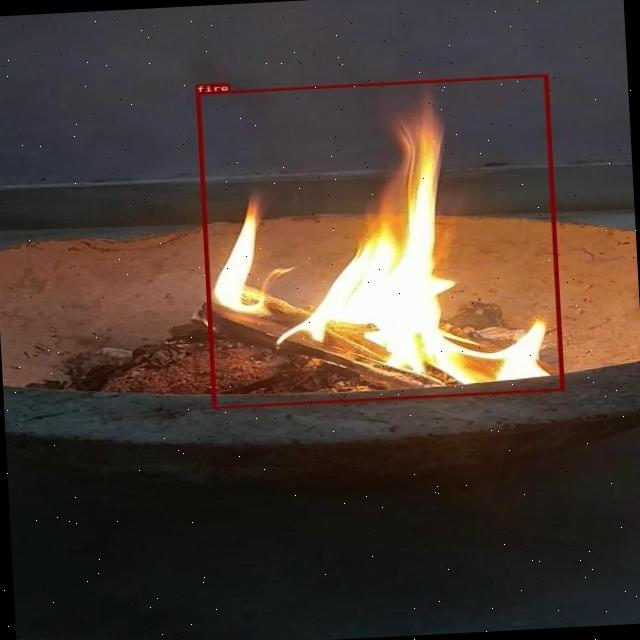fire: (196, 74, 564, 409)
